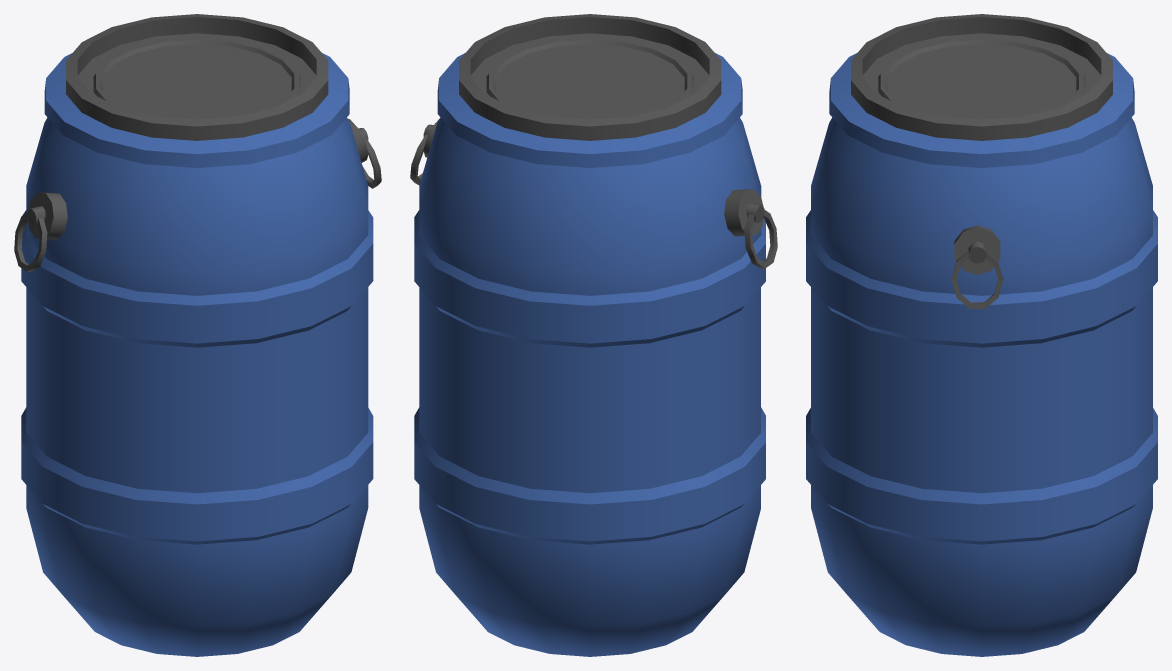
File: SM_Barrel_05.fbx
The picture shows the model from 3 angles, left to right: view 1: azimuth 30°, elevation 25°; view 2: azimuth 150°, elevation 25°; view 3: azimuth 270°, elevation 25°; orthographic projection.
Parts seen in each view (by area): view 1: SM_Barrel_05; view 2: SM_Barrel_05; view 3: SM_Barrel_05.
Boxes of the visible parts, x1,y1,x2,y2 form: SM_Barrel_05: [14, 14, 381, 656]; SM_Barrel_05: [410, 14, 777, 656]; SM_Barrel_05: [806, 14, 1157, 656].
Size of the model in its own units: 65.28 by 95.71 by 56.65.
